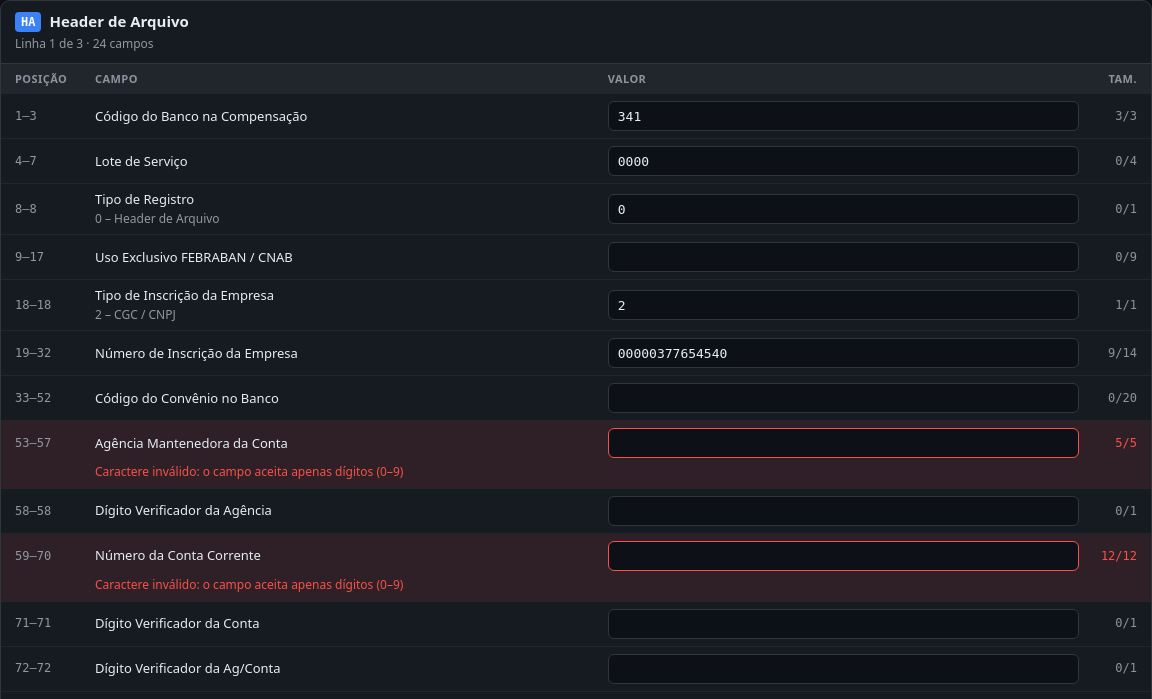
Test case: EditPane (visualização) › contador atualiza ao digitar
Replace the text in the field labelled "Número de Inscrição da Empresa" with "12345678901234" at (843,353), box [608,338,1079,368]
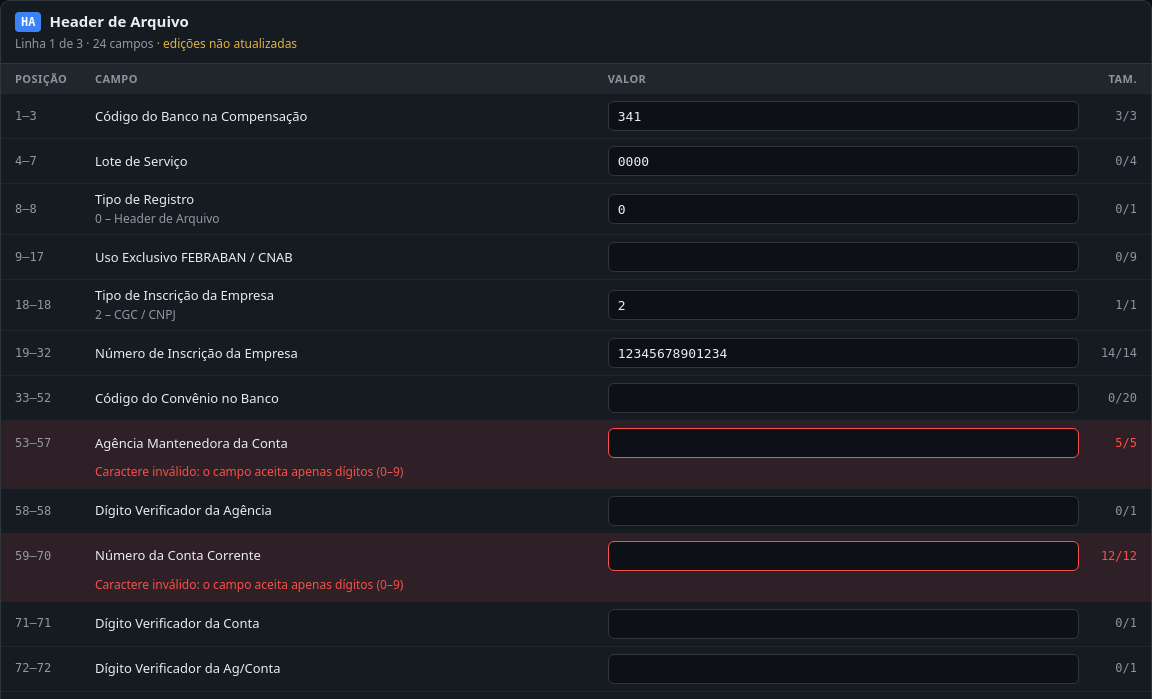
Expected: the text "14/14" is shown, [1101,346,1137,360]
